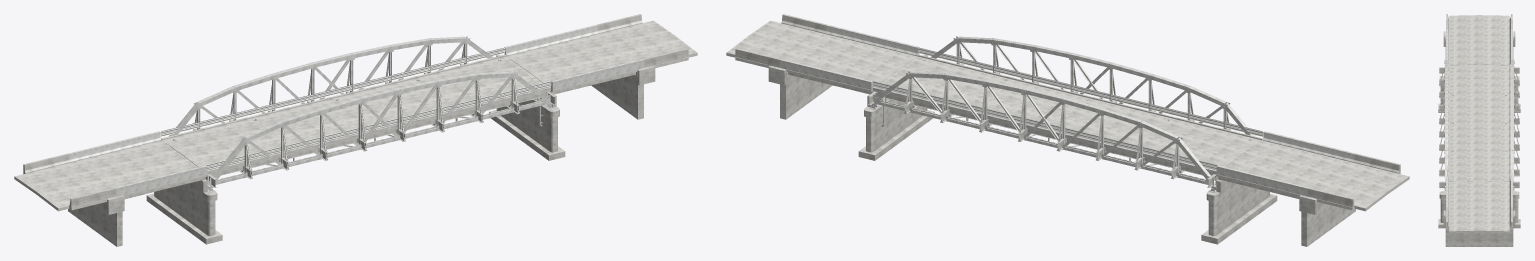
The model's file is model_render.glb.
3 renders of one model, left to right at view 1: azimuth 30°, elevation 25°; view 2: azimuth 150°, elevation 25°; view 3: azimuth 270°, elevation 25°, orthographic. The views are drawn at different scales.
Parts seen in each view (by area): view 1: deck_B, deck_C, deck_A, approach1, approach4, pier2_stem, pier3_stem, abut1_stem, abut4_stem, metal_rail_X_1, metal_rail_X_0, curb_1 (+13 smaller); view 2: deck_B, deck_C, deck_A, approach1, approach4, pier2_stem, pier3_stem, abut1_stem, abut4_stem, metal_rail_Y_1, metal_rail_Y_0, curb_-1 (+13 smaller); view 3: deck_B, deck_C, deck_A, approach4, approach1, abut4_stem, pier3_stem, curb_1, curb_-1, FC_A_1, FC_A_-1, FC_C_1 (+21 smaller).
Part boxes in pixels (x1=…): deck_B: x1=162, y1=56, x2=550, y2=174; deck_C: x1=507, y1=34, x2=643, y2=91; deck_A: x1=70, y1=140, x2=207, y2=196; approach1: x1=14, y1=163, x2=115, y2=211; approach4: x1=598, y1=20, x2=697, y2=67; pier2_stem: x1=154, y1=184, x2=215, y2=235; pier3_stem: x1=496, y1=101, x2=557, y2=152; abut1_stem: x1=68, y1=202, x2=122, y2=246; abut4_stem: x1=591, y1=77, x2=643, y2=119; metal_rail_X_1: x1=161, y1=47, x2=505, y2=133; metal_rail_X_0: x1=161, y1=50, x2=505, y2=136; curb_1: x1=161, y1=54, x2=506, y2=140; deck_B: x1=873, y1=56, x2=1261, y2=174; deck_C: x1=780, y1=34, x2=916, y2=91; deck_A: x1=1216, y1=140, x2=1353, y2=196; approach1: x1=1308, y1=163, x2=1409, y2=211; approach4: x1=726, y1=20, x2=825, y2=67; pier2_stem: x1=1208, y1=184, x2=1269, y2=235; pier3_stem: x1=866, y1=101, x2=927, y2=152; abut1_stem: x1=1301, y1=202, x2=1355, y2=246; abut4_stem: x1=780, y1=77, x2=832, y2=119; metal_rail_Y_1: x1=918, y1=47, x2=1262, y2=133; metal_rail_Y_0: x1=918, y1=50, x2=1262, y2=136; curb_-1: x1=917, y1=54, x2=1262, y2=140; deck_B: x1=1449, y1=64, x2=1509, y2=181; deck_C: x1=1446, y1=181, x2=1512, y2=212; deck_A: x1=1446, y1=34, x2=1512, y2=65; approach4: x1=1446, y1=212, x2=1512, y2=233; approach1: x1=1446, y1=15, x2=1512, y2=34; abut4_stem: x1=1445, y1=223, x2=1513, y2=246; pier3_stem: x1=1440, y1=199, x2=1518, y2=222; curb_1: x1=1509, y1=64, x2=1510, y2=180; curb_-1: x1=1448, y1=64, x2=1449, y2=180; FC_A_1: x1=1509, y1=29, x2=1512, y2=64; FC_A_-1: x1=1446, y1=29, x2=1449, y2=64; FC_C_1: x1=1509, y1=176, x2=1512, y2=211.
Bounding box in the file's own units: 71.78 × 11.04 × 11.58.
4 materials, 3 textured.
